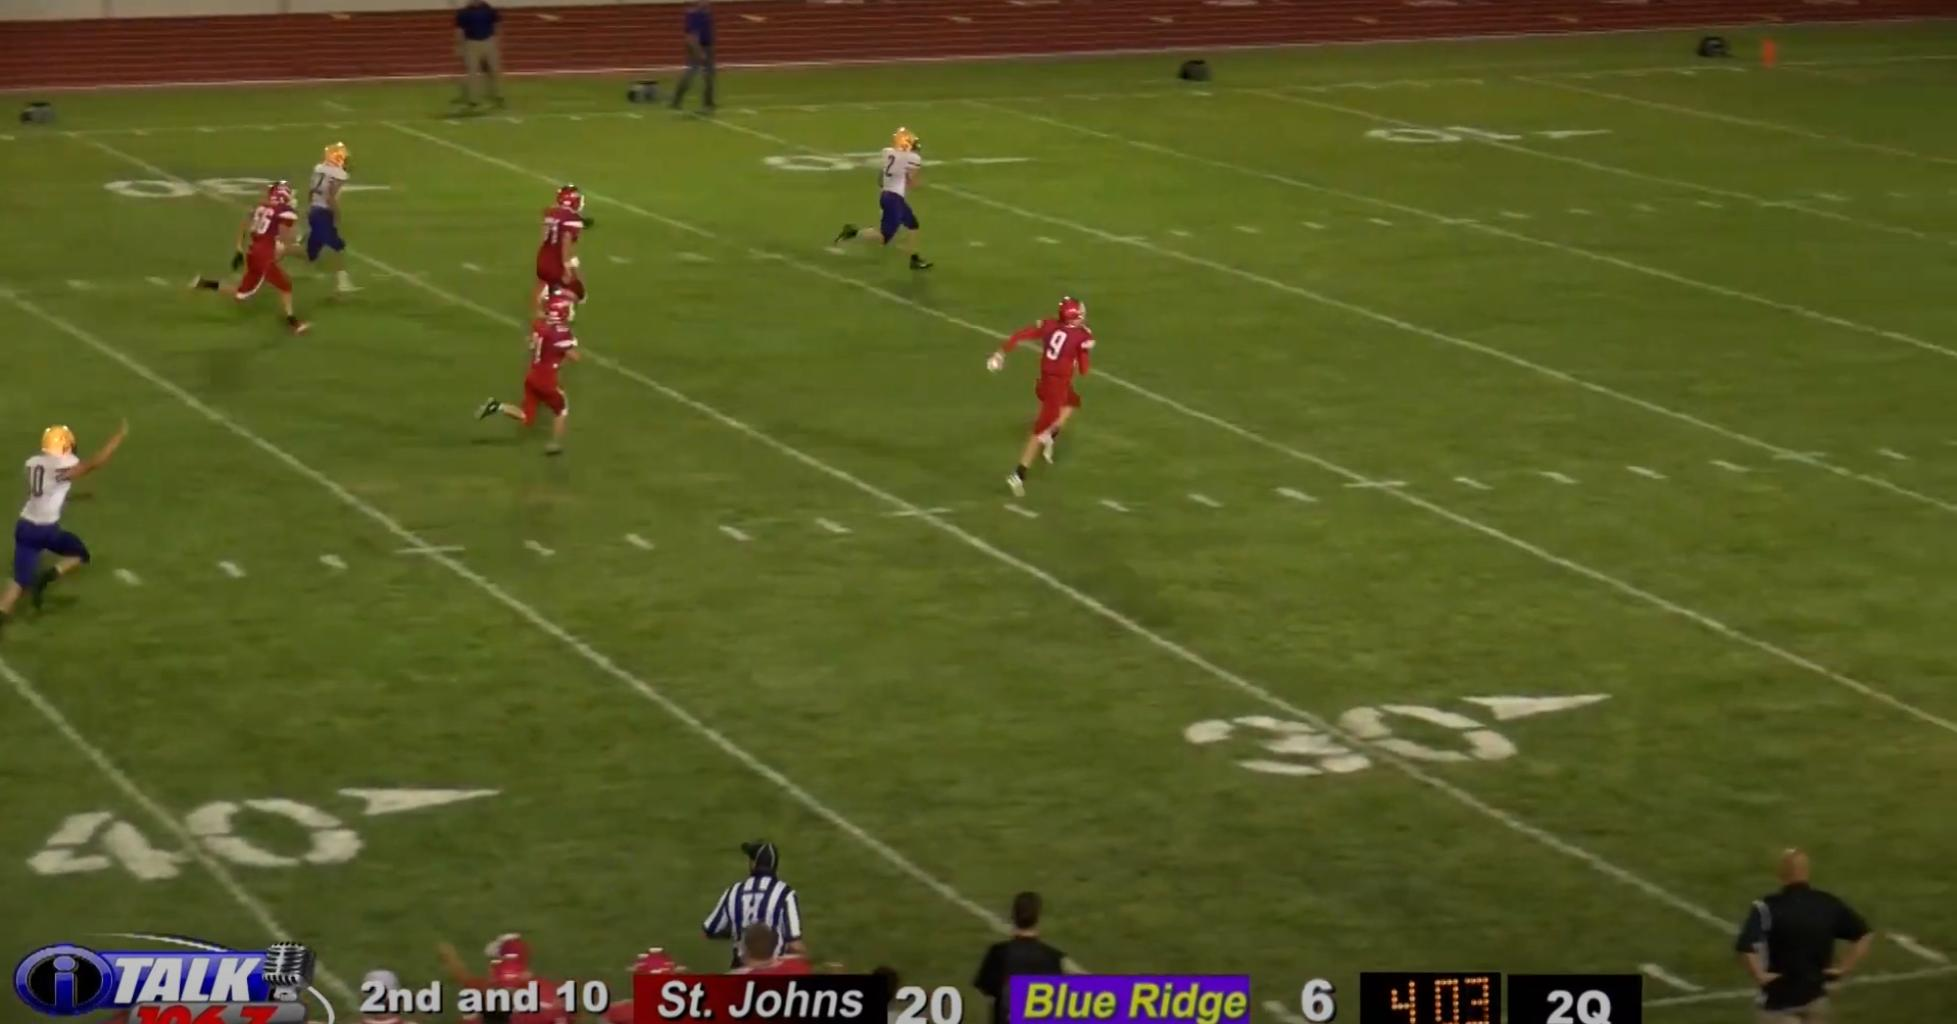10R: (1364, 120, 1613, 149)
20R: (758, 145, 1038, 173)
30R: (1183, 693, 1610, 777), (102, 173, 395, 201)
40R: (26, 785, 501, 882)
